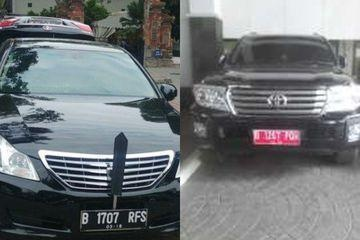plate: (253, 127, 298, 147)
